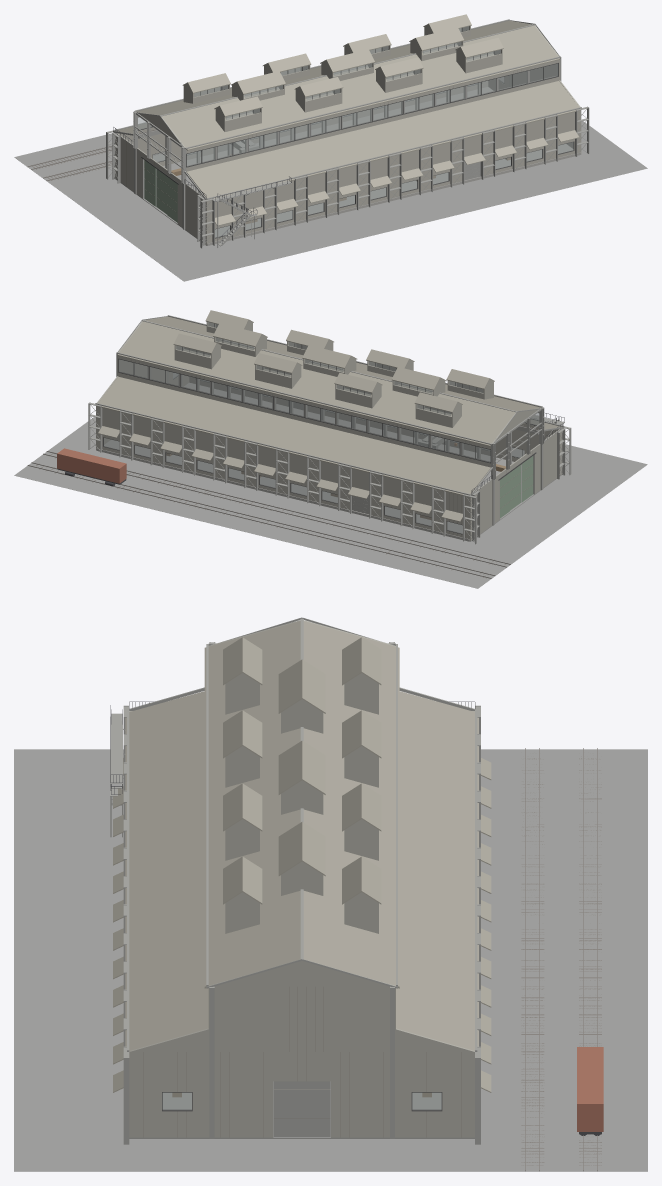
The model's file is clay-craneway-hall-clay-v005.glb.
3 views of the same model, one above another, from view 1: azimuth 30°, elevation 25°; view 2: azimuth 150°, elevation 25°; view 3: azimuth 270°, elevation 25° (orthographic). The views are drawn at different scales.
Parts seen in each view (by area): view 1: CLAY_ROOF, CLAY_FOUNDATION, CLAY_WALL, CLAY_PALE, CLAY_GLASS, CLAY_TRIM, CLAY_GREEN, CLAY_STONE, CLAY_RAIL, CLAY_HARDWARE; view 2: CLAY_ROOF, CLAY_FOUNDATION, CLAY_WALL, CLAY_PALE, CLAY_GLASS, CLAY_RAIL, CLAY_TRIM, CLAY_CAR, CLAY_GREEN, CLAY_STONE; view 3: CLAY_FOUNDATION, CLAY_ROOF, CLAY_WALL, CLAY_PALE, CLAY_RAIL, CLAY_CAR, CLAY_JOINT, CLAY_GLASS.
Boxes of the visible parts, x1,y1,x2,y2 form: CLAY_ROOF: [116, 14, 581, 225]; CLAY_FOUNDATION: [14, 77, 647, 281]; CLAY_WALL: [115, 20, 581, 245]; CLAY_PALE: [106, 19, 589, 248]; CLAY_GLASS: [138, 26, 573, 237]; CLAY_TRIM: [138, 28, 574, 238]; CLAY_GREEN: [144, 160, 177, 222]; CLAY_STONE: [207, 152, 580, 245]; CLAY_RAIL: [27, 76, 555, 180]; CLAY_HARDWARE: [113, 127, 291, 246]; CLAY_ROOF: [96, 310, 560, 521]; CLAY_FOUNDATION: [14, 373, 647, 588]; CLAY_WALL: [96, 316, 562, 540]; CLAY_PALE: [88, 315, 571, 544]; CLAY_GLASS: [104, 322, 539, 533]; CLAY_RAIL: [27, 371, 538, 578]; CLAY_TRIM: [103, 323, 539, 534]; CLAY_CAR: [57, 448, 126, 483]; CLAY_GREEN: [500, 456, 533, 518]; CLAY_STONE: [96, 448, 469, 541]; CLAY_FOUNDATION: [14, 749, 647, 1171]; CLAY_ROOF: [113, 621, 491, 1092]; CLAY_WALL: [129, 620, 474, 1137]; CLAY_PALE: [110, 617, 480, 1144]; CLAY_RAIL: [521, 748, 601, 1171]; CLAY_CAR: [577, 1047, 603, 1131]; CLAY_JOINT: [143, 987, 461, 1137]; CLAY_GLASS: [162, 1092, 441, 1109].
Bounding box in the file's own units: 104 × 23.98 × 66.
